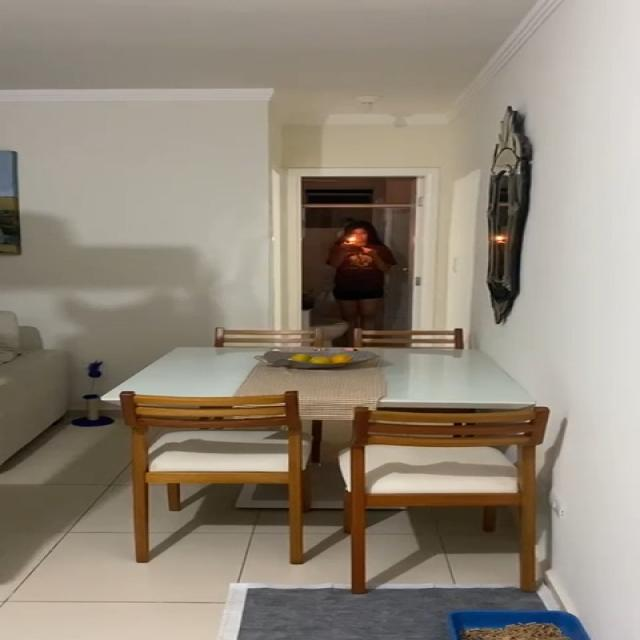fogo-ypXI: (344, 234, 362, 246)
